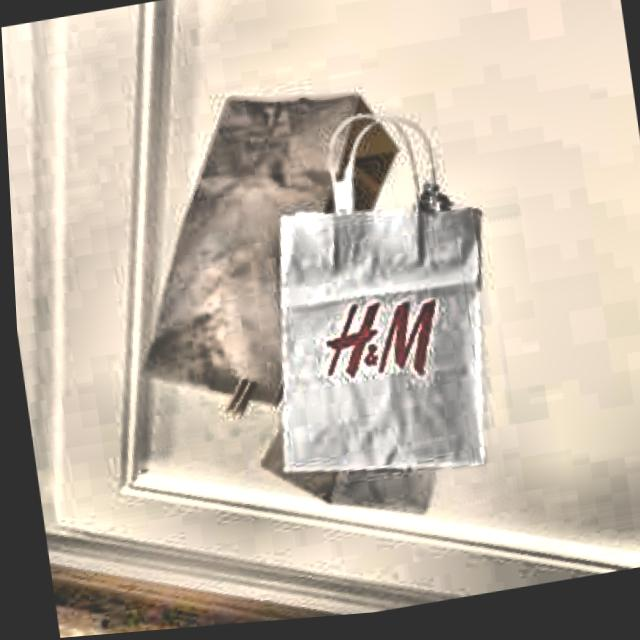Paper-bag: (109, 50, 436, 452), (231, 95, 518, 525), (213, 252, 491, 559)
